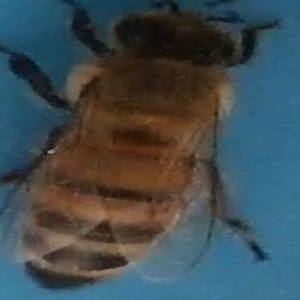bee: (2, 2, 280, 290)
